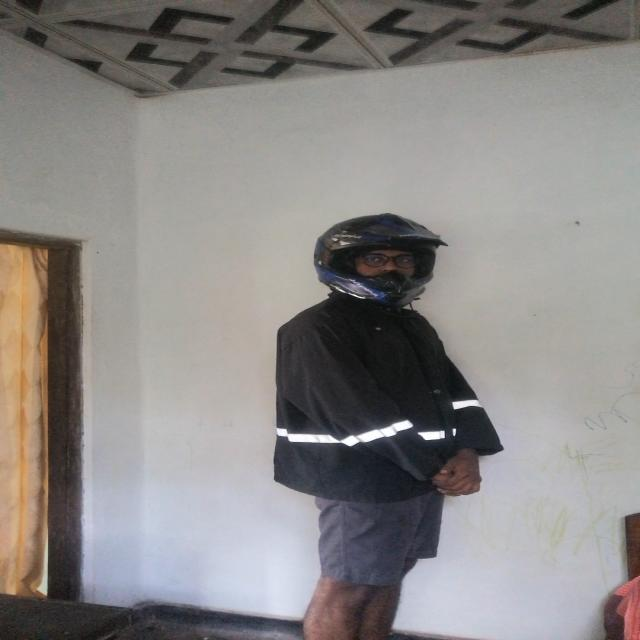Helmet_Wearer: (304, 206, 458, 325)
Jacket_Wearer: (272, 284, 498, 508)
Person: (268, 196, 496, 640)
